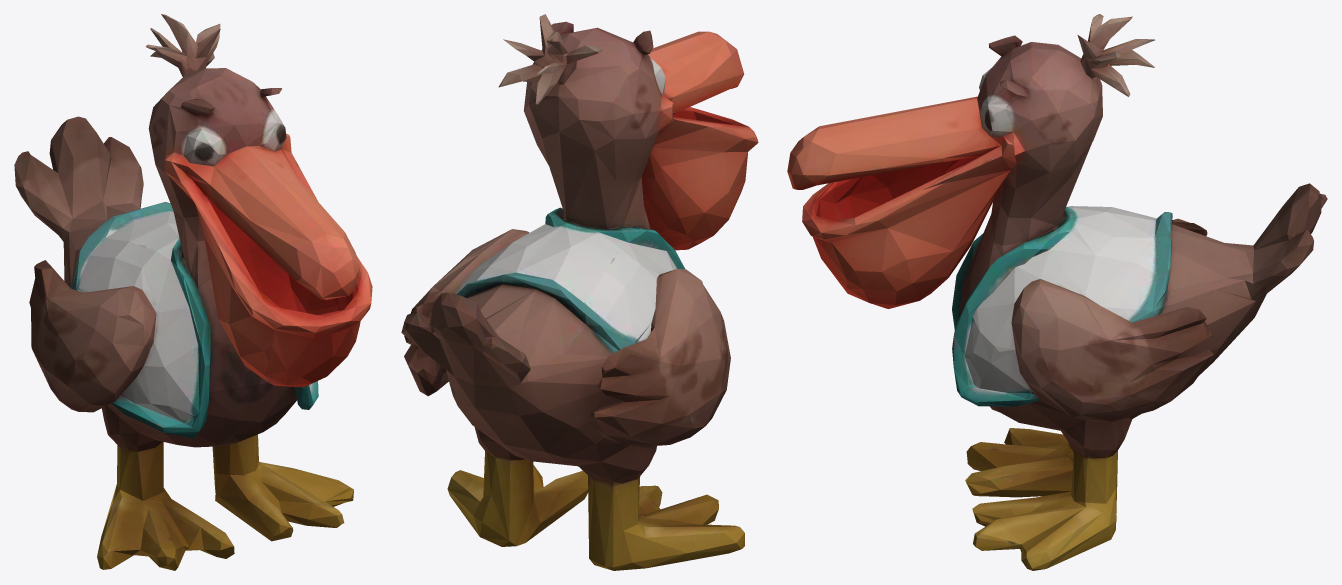
Rendered from pelican.glb.
3 renders of one model, left to right at view 1: azimuth 30°, elevation 25°; view 2: azimuth 150°, elevation 25°; view 3: azimuth 270°, elevation 25°, orthographic. The views are drawn at different scales.
Parts seen in each view (by area): view 1: geometry_0; view 2: geometry_0; view 3: geometry_0.
Boxes of the visible parts, bbox=[...] form: geometry_0: bbox=[14, 14, 372, 570]; geometry_0: bbox=[401, 14, 758, 570]; geometry_0: bbox=[787, 14, 1327, 570].
Size of the model in its own units: 0.5723 by 0.9969 by 0.9948.
1 material, 1 textured.
